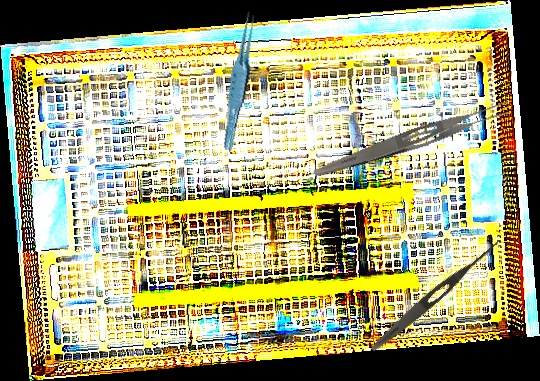Dressing Forceps: (311, 95, 513, 187), (367, 234, 504, 356)
Tissue Forceps: (213, 8, 267, 152)
